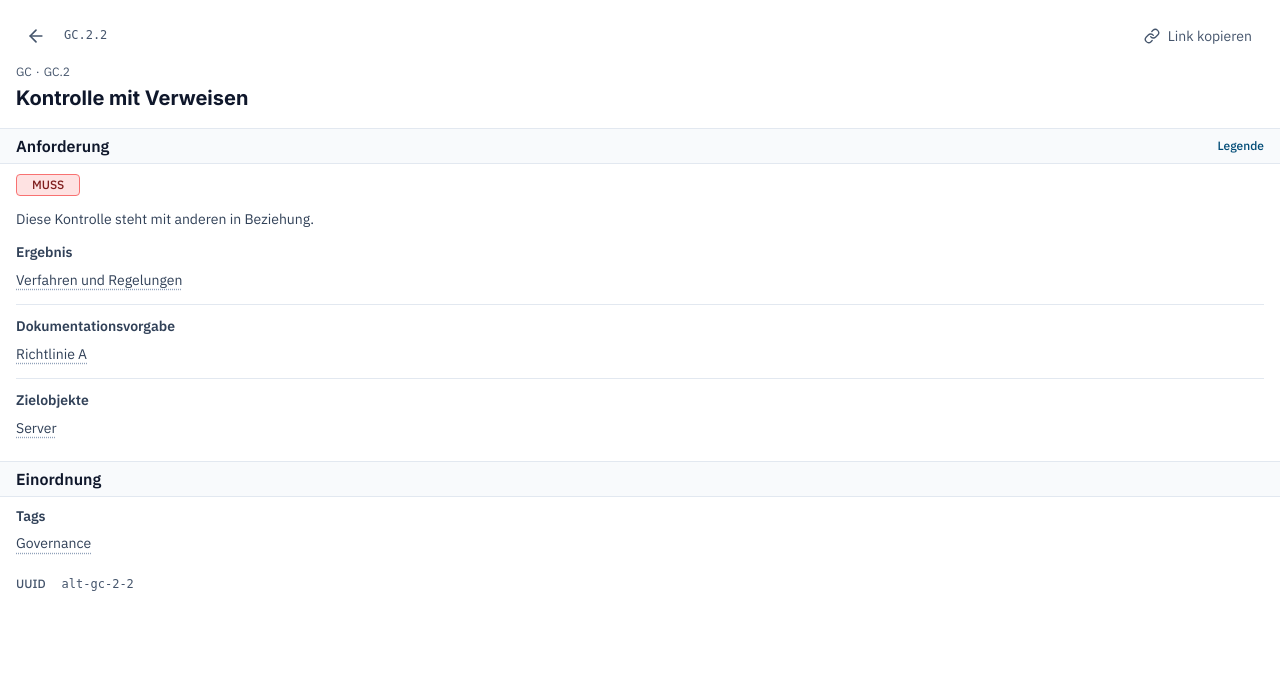
Test: ControlDetail › uses the criteria legend and keeps term cards for tags, details, and target categories
Click the button "Legende" at coordinates (1241, 146), box [1218,138,1264,154]
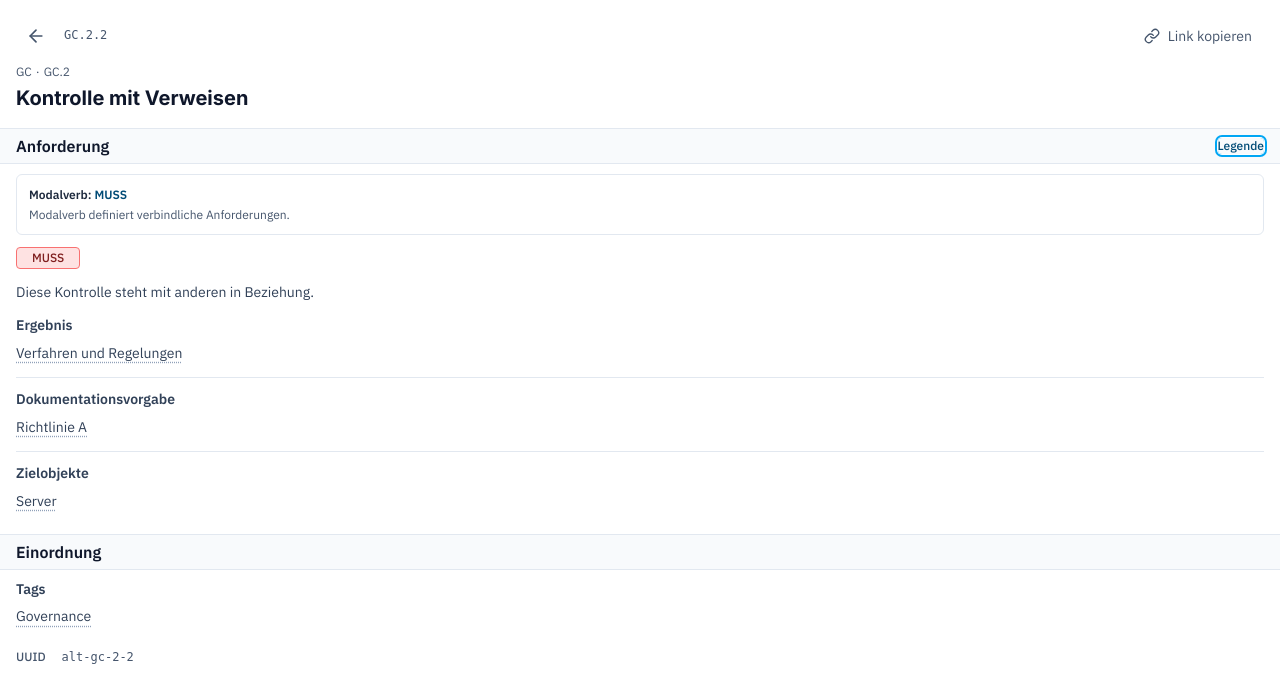
Click the button with aria-label "Tag: Governance" at coordinates (54, 617), box [16,605,93,629]
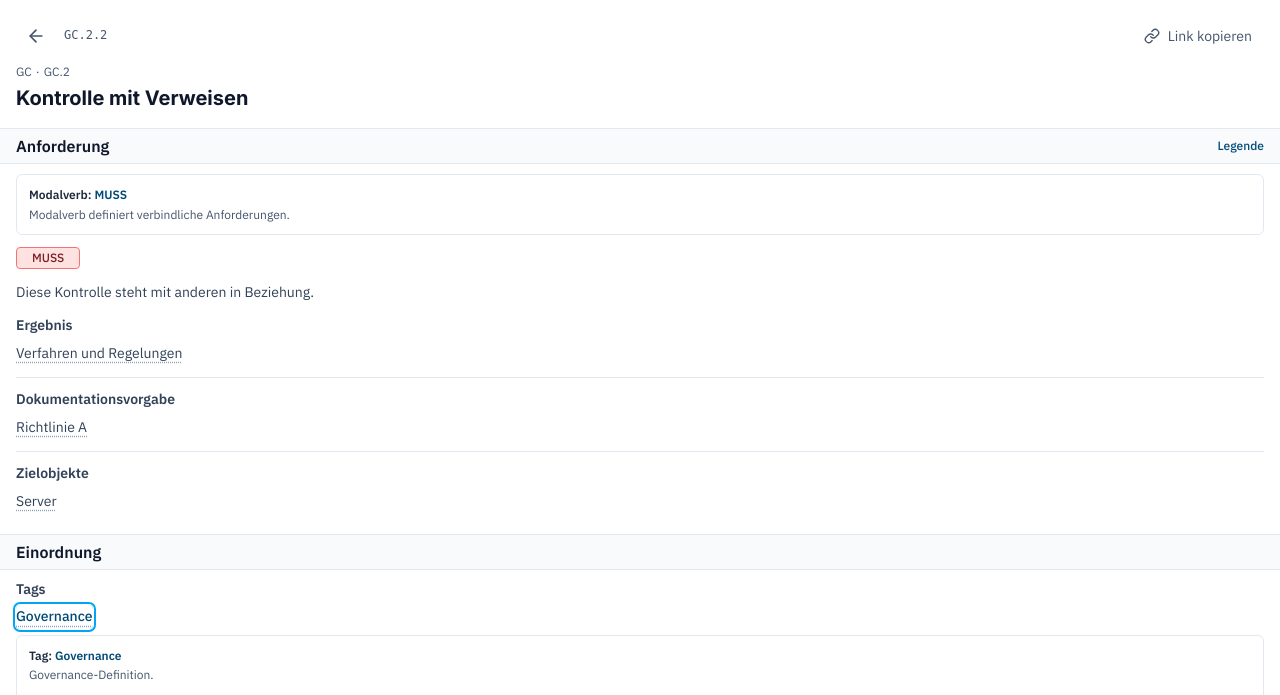
Expected: the text "Governance-Definition." is shown, [29,667,154,682]
Click the button with aria-label "Vokabularbegriff Verfahren und Regelungen" at coordinates (101, 353), box [16,341,186,365]
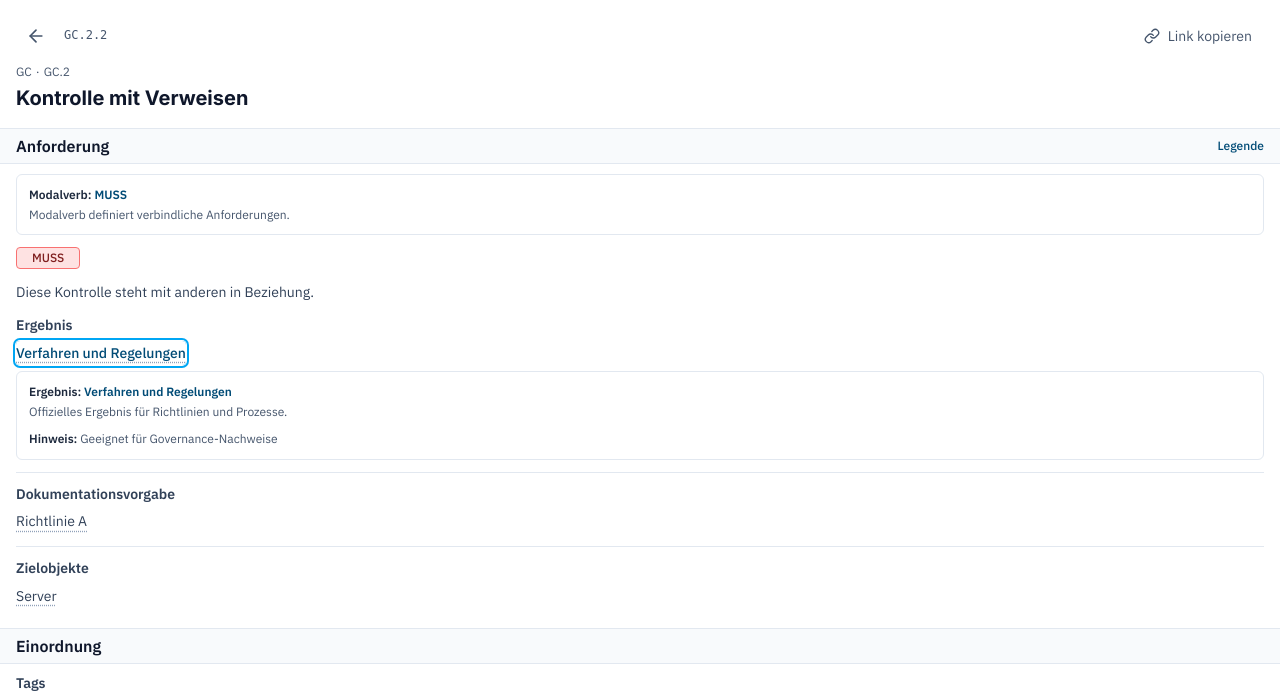
Expected: the text "Offizielles Ergebnis für Richtlinien und Prozesse." is shown, [29,404,287,418]
Click the button with aria-label "Vokabularbegriff Richtlinie A" at coordinates (53, 522), box [16,510,89,534]
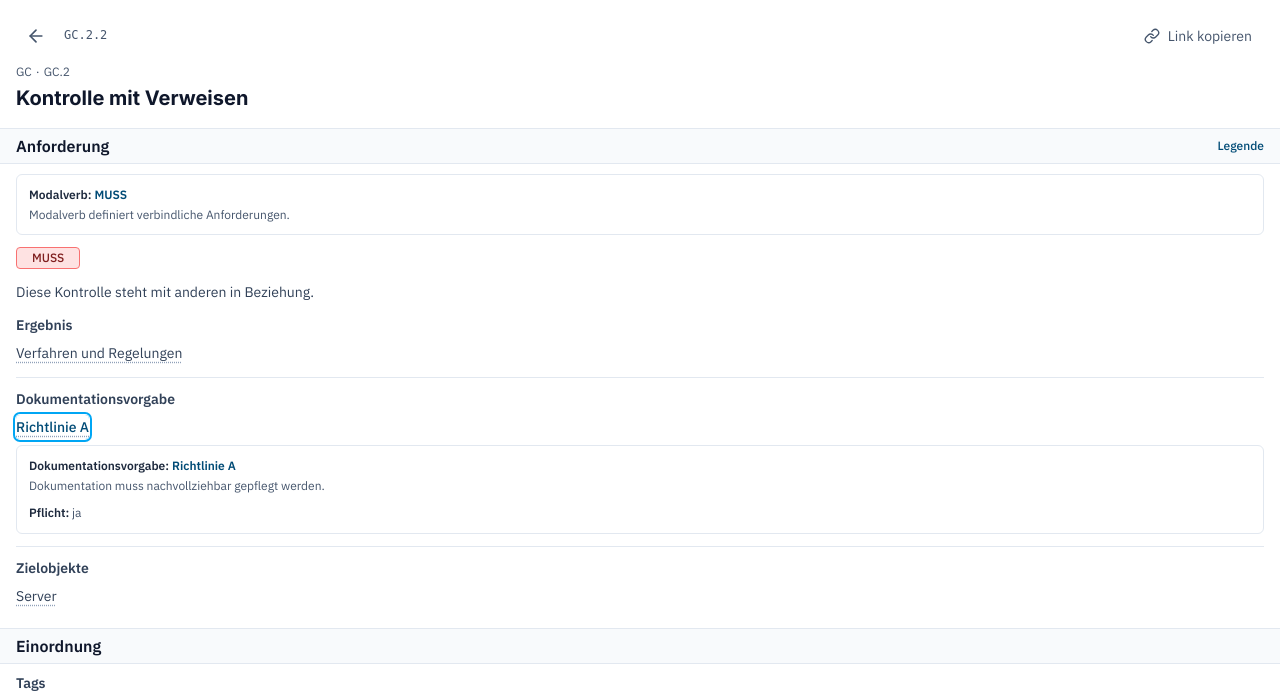
Expected: the text "Dokumentation muss nachvollziehbar gepflegt werden." is shown, [29,478,325,493]
Click the button with aria-label "Zielobjekt: Server" at coordinates (37, 596), box [16,584,58,608]
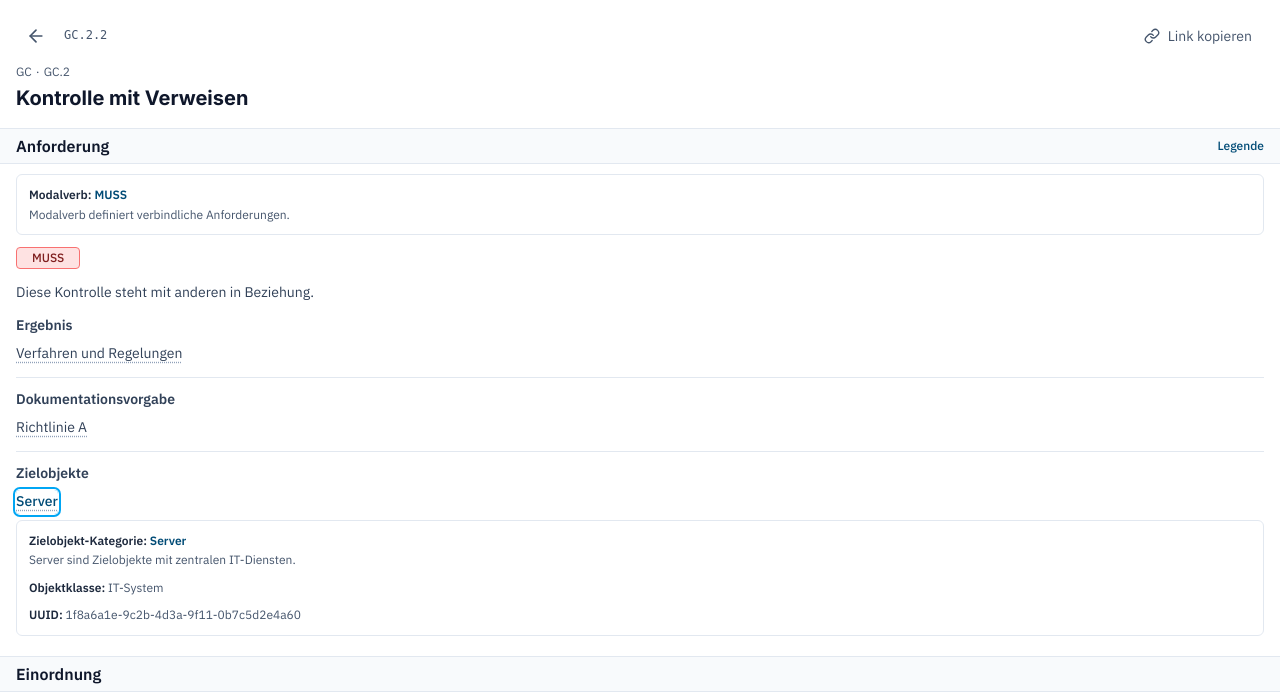
Expected: the text "Server sind Zielobjekte mit zentralen IT-Diensten." is shown, [29,552,296,567]
